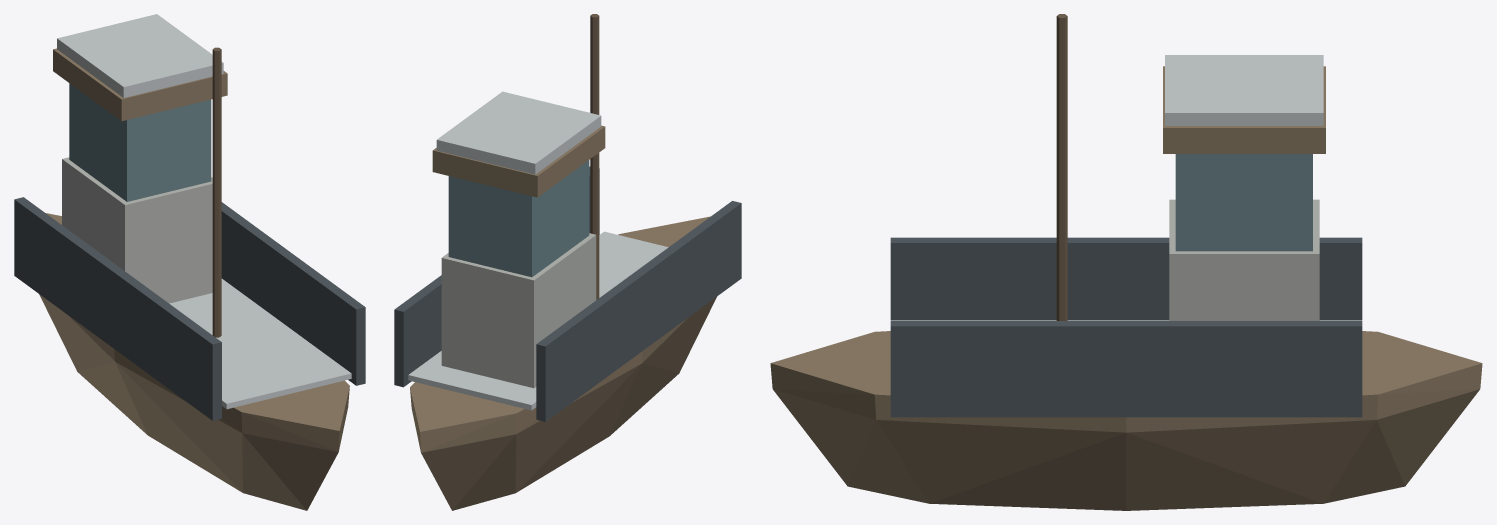
The model's file is fishing_boat.glb.
3 views of the same model, side by side, from view 1: azimuth 30°, elevation 25°; view 2: azimuth 150°, elevation 25°; view 3: azimuth 270°, elevation 25° (orthographic). The views are drawn at different scales.
Visible parts, largest first — view 1: fishing_boat; view 2: fishing_boat; view 3: fishing_boat.
Boxes of the visible parts, x1,y1,x2,y2 form: fishing_boat: [14, 14, 365, 510]; fishing_boat: [394, 14, 741, 510]; fishing_boat: [770, 14, 1482, 510].
Bounding box in the file's own units: 0.8501 × 2.1 × 2.88.
